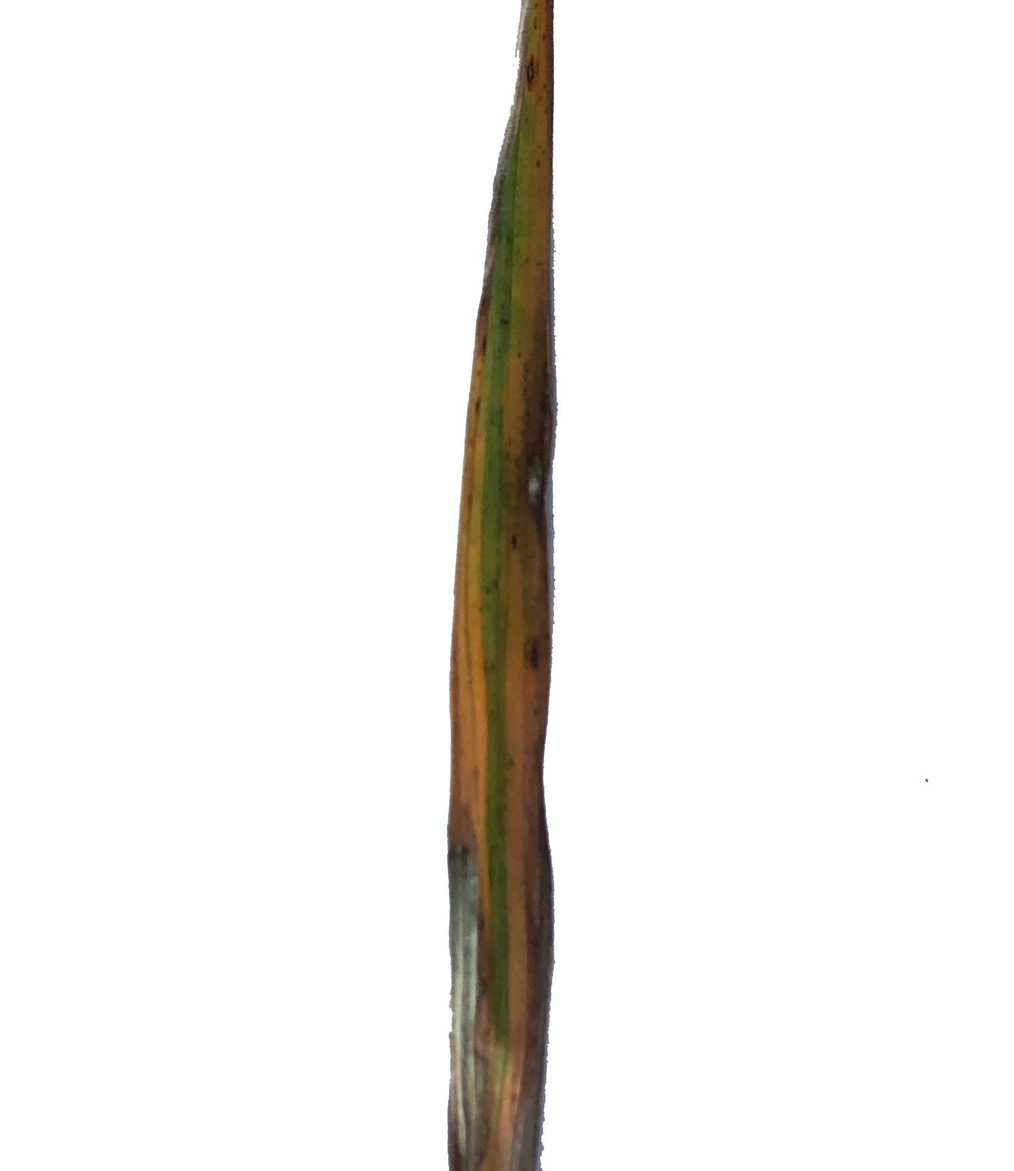Blight: (445, 839, 491, 1153), (455, 1049, 549, 1159)
Rice blast: (503, 70, 564, 1040)
